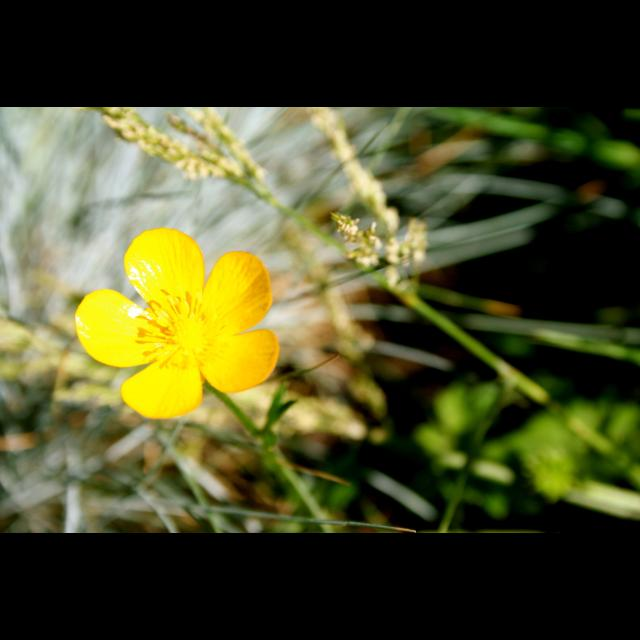Flower: (78, 224, 282, 424)
